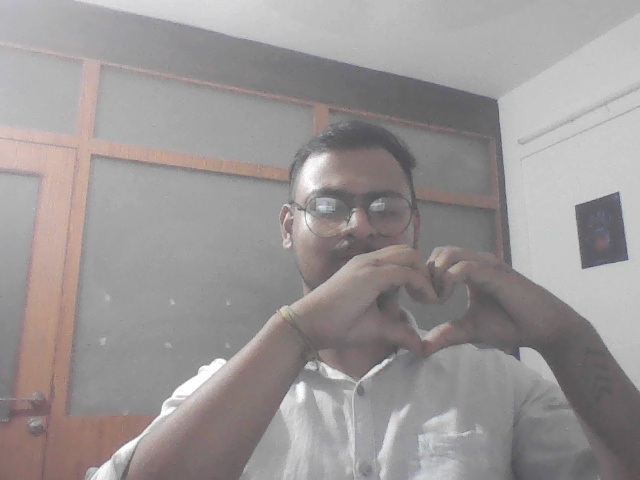Heart: (325, 244, 534, 361)
